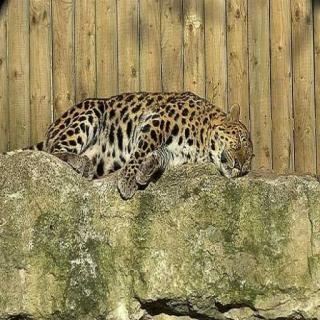Leopard: (42, 88, 288, 224)
